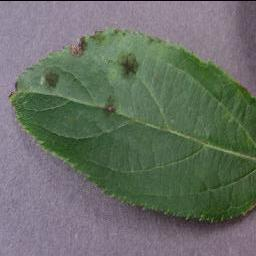apple scab disease: (8, 26, 255, 224)
